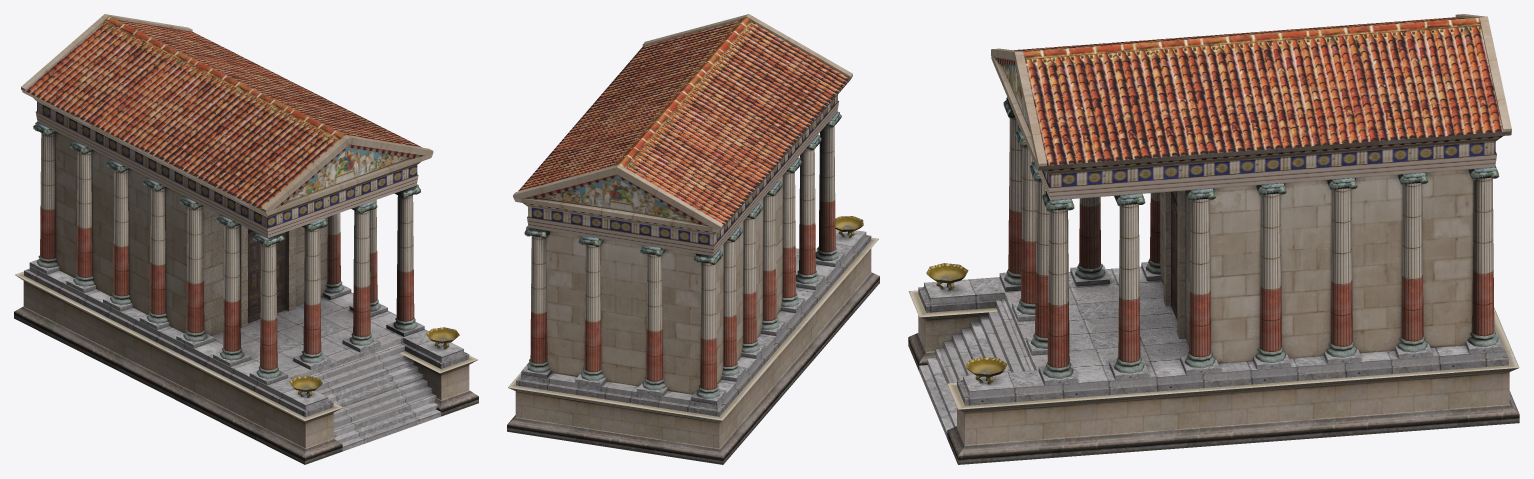
File: settlement_temple.dae
The picture shows the model from 3 angles, left to right: view 1: azimuth 30°, elevation 25°; view 2: azimuth 150°, elevation 25°; view 3: azimuth 270°, elevation 25°; orthographic projection. The views are drawn at different scales.
Parts seen in each view (by area): view 1: rome_hc; view 2: rome_hc; view 3: rome_hc.
Boxes of the visible parts, left/top/right/bottom form: rome_hc: left=14, top=14, right=478, bottom=464; rome_hc: left=507, top=14, right=879, bottom=464; rome_hc: left=908, top=14, right=1519, bottom=464.
Bounding box in the file's own units: 6.69 × 6.72 × 10.73.
